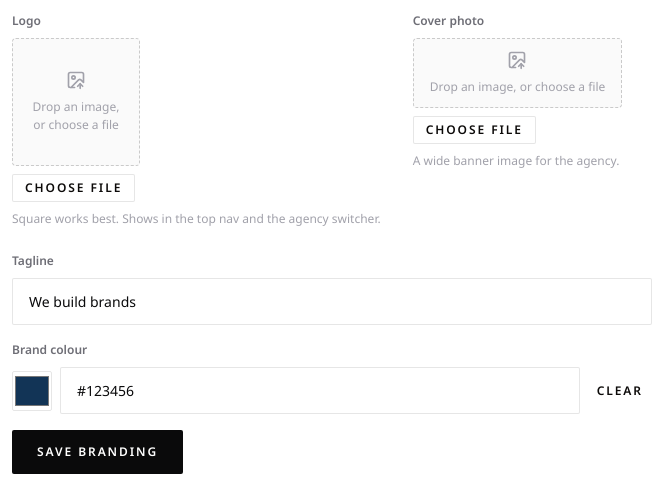
Test: AgencyBrandingForm › clears the colour with the Clear button
This screenshot has width=669, height=491.
Step 1. Click the button "Clear" → click(620, 390), box [588, 376, 652, 404]
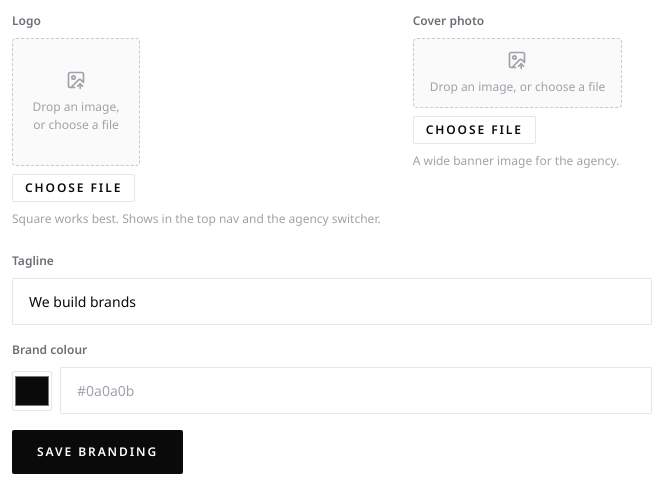
expect the field labelled "Brand colour" is empty: met, box [60, 367, 652, 414]
